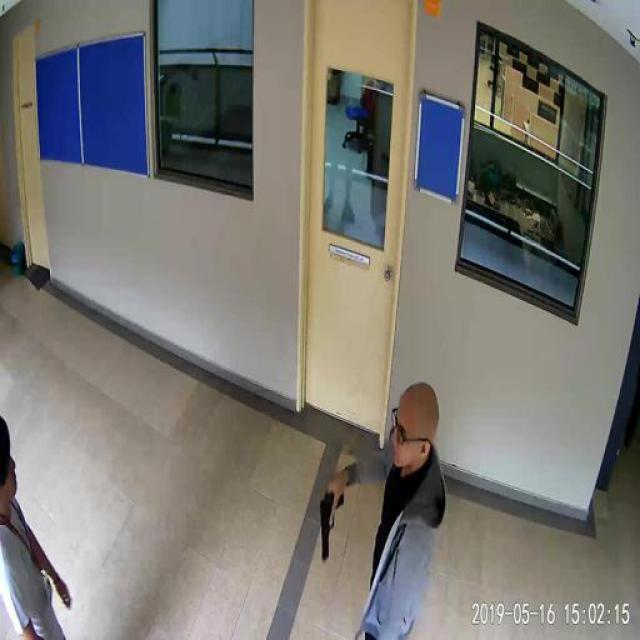weapon: (316, 485, 346, 564)
